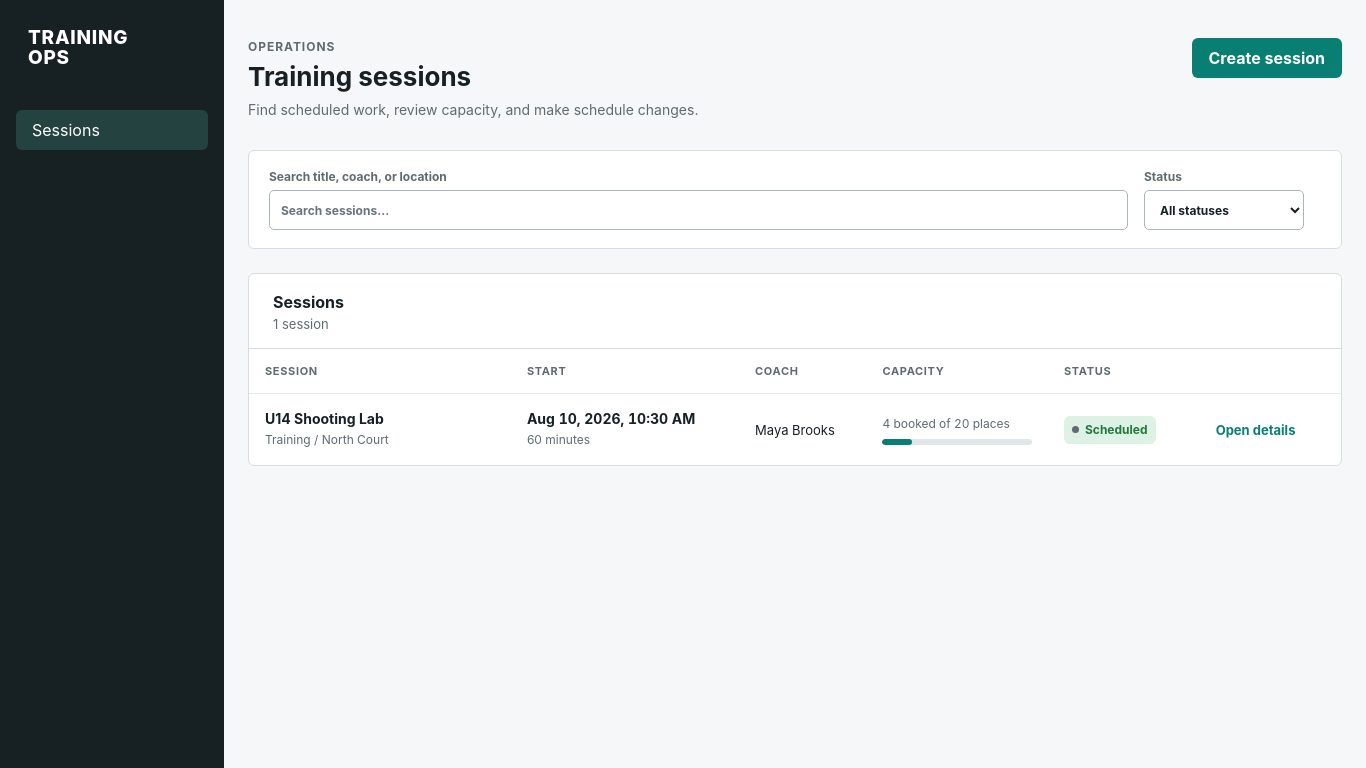
TrainingSessionsPage › keeps the last successful list visible when refresh fails
Expected: the text "U14 Shooting Lab" is shown, [265,410,384,427]
Type "updated" into the search field labelled "Search title, coach, or location" at (698, 210), box [269,190,1128,230]
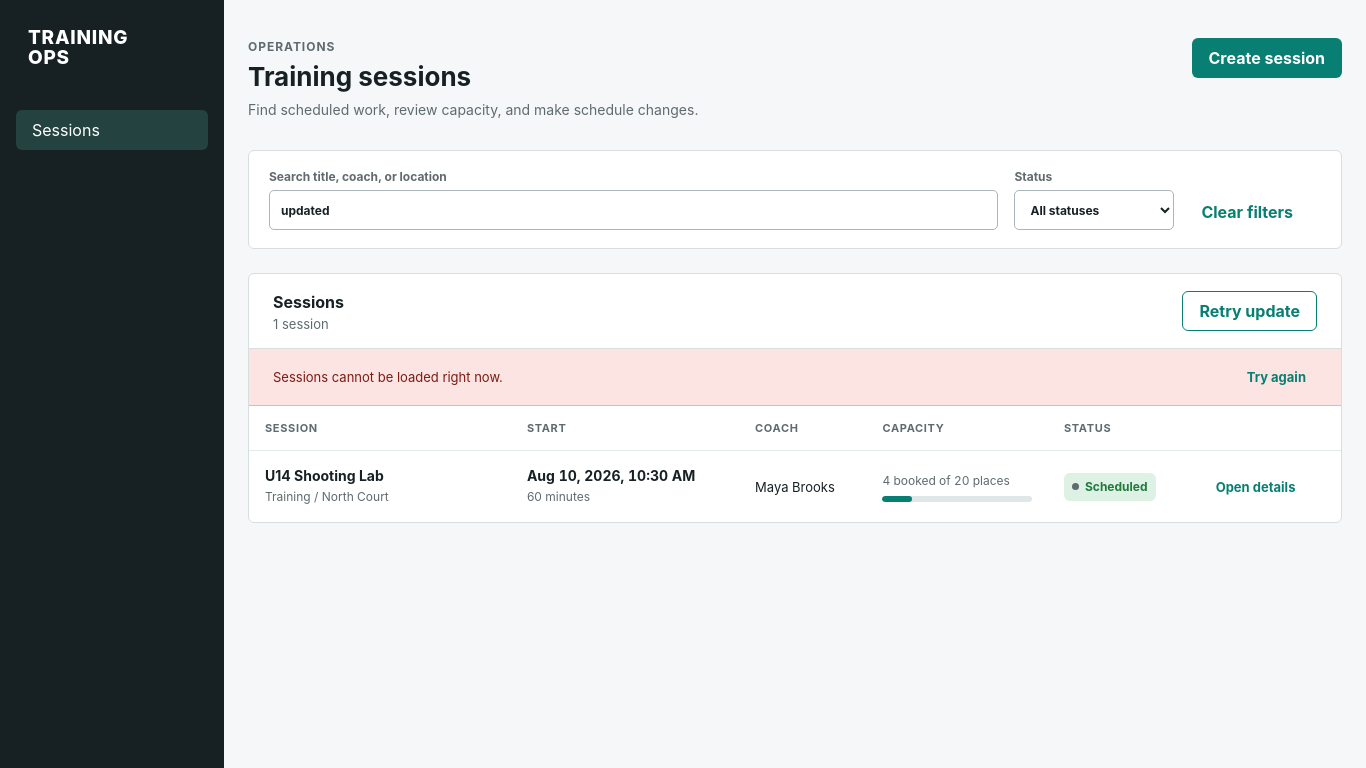
Expected: the text "U14 Shooting Lab" is shown, [265,467,384,484]
Expected: the text "Sessions cannot be loaded right now." is shown, [273,369,503,385]
